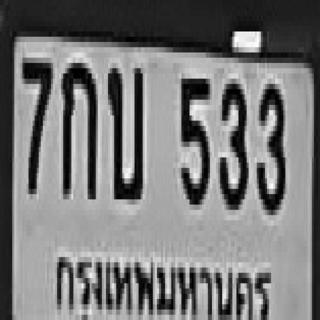A01: (61, 58, 96, 194)
A26: (106, 60, 141, 197)
N03: (255, 79, 283, 210), (218, 73, 244, 205)
N05: (180, 74, 208, 200)
N07: (21, 52, 51, 189)
P04: (56, 241, 270, 320)
